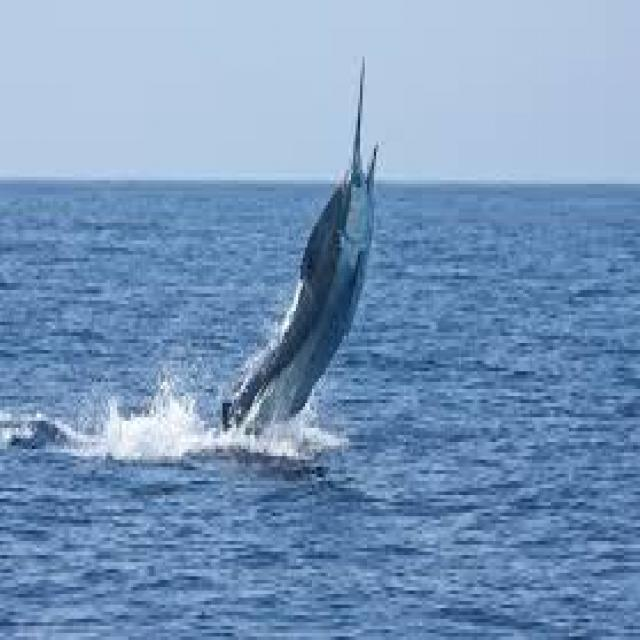Blue Marlin: (220, 53, 379, 446)
